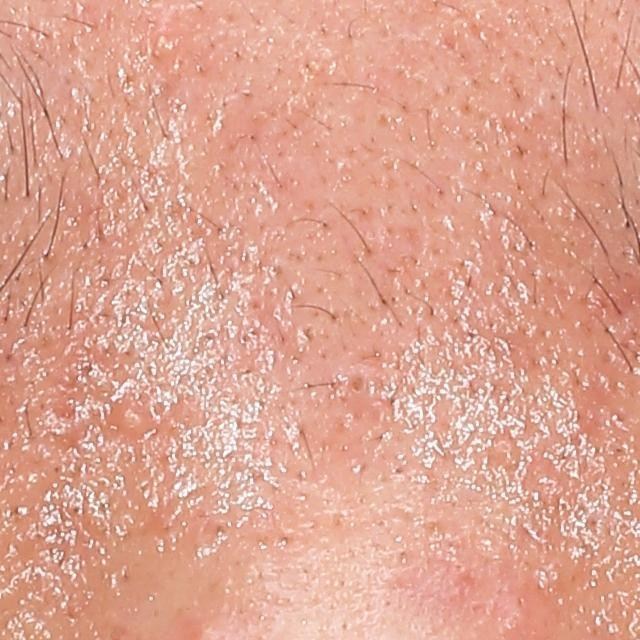comedo: (345, 371, 372, 400)
